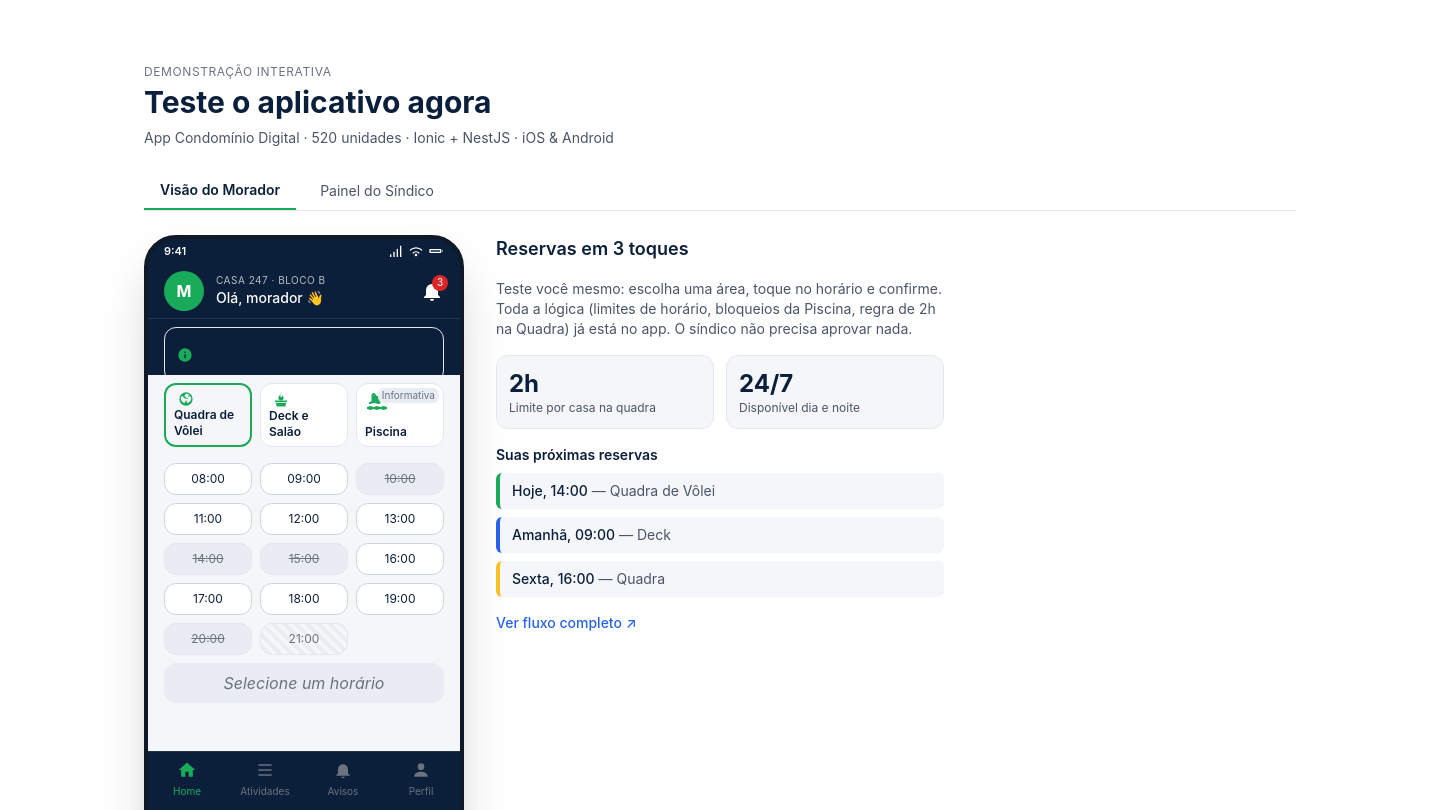
Test: DemoMorador — Piscina informativa › selecionar Piscina esconde a grade e mostra a mensagem informativa
Click the radio button labelled "Piscina Informativa".
click(400, 415)  # box [356, 383, 444, 447]
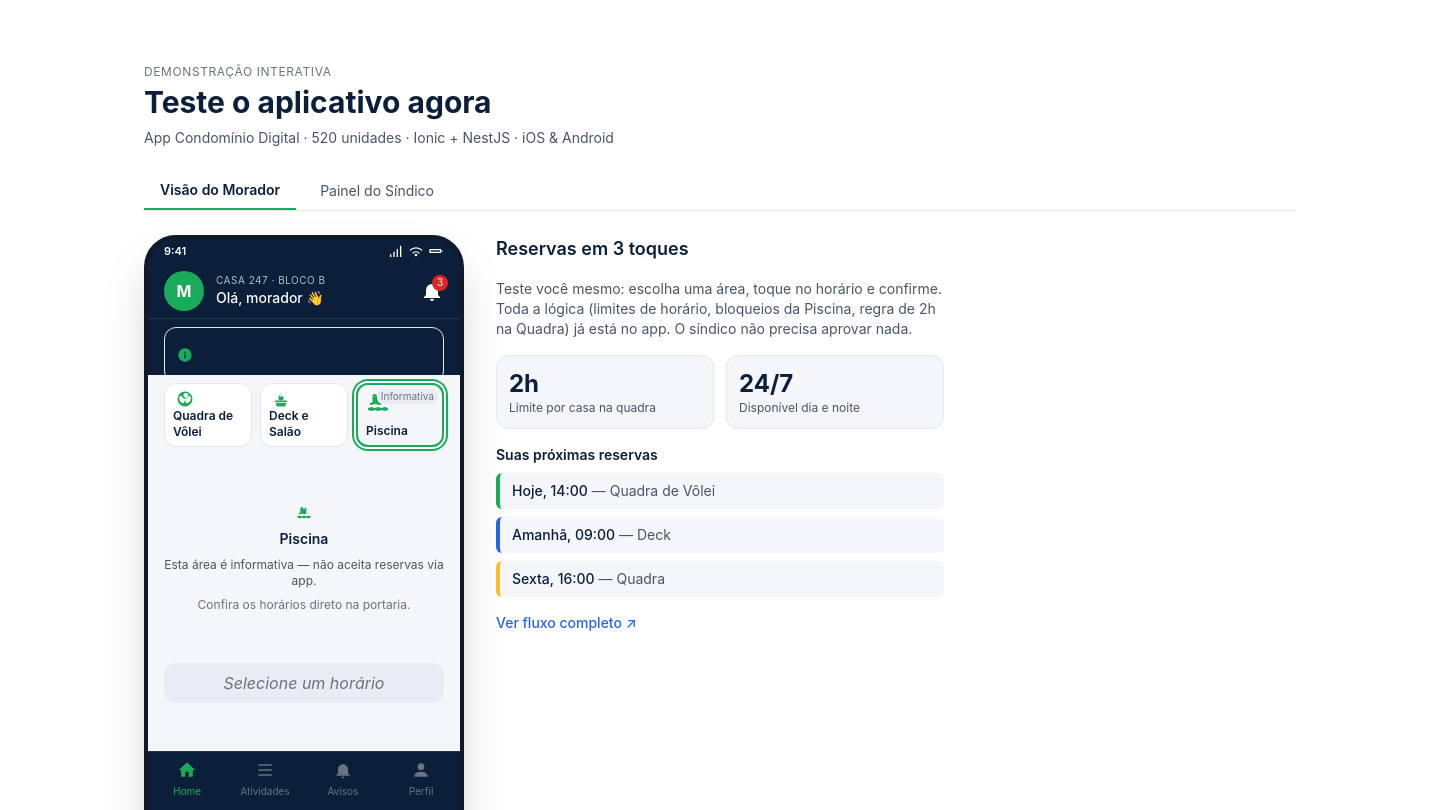
Result: the element that starts with "Piscina" is shown at [164, 505, 444, 612]
